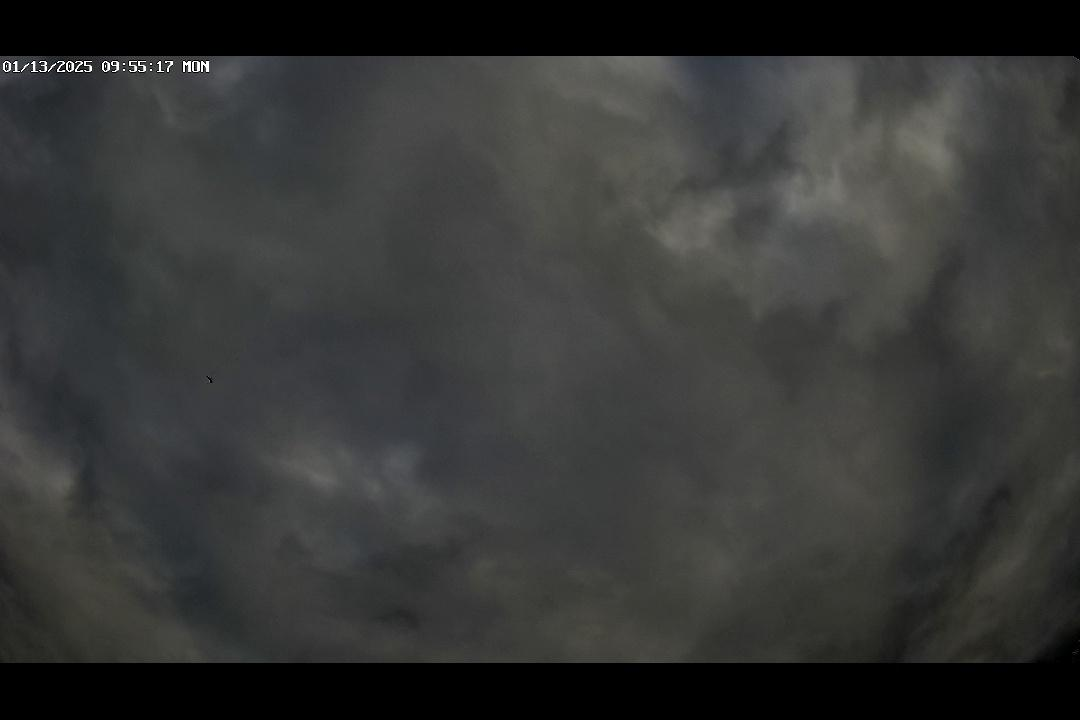WildLife: (195, 368, 220, 389)
